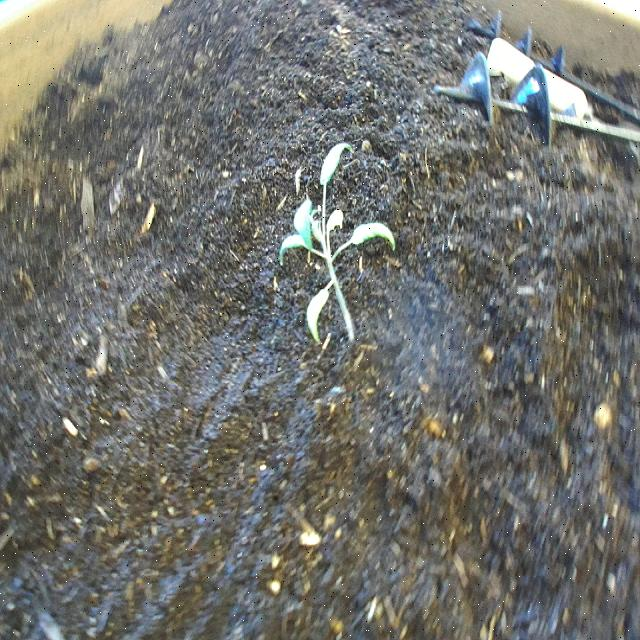Healthy: (278, 139, 398, 352)
